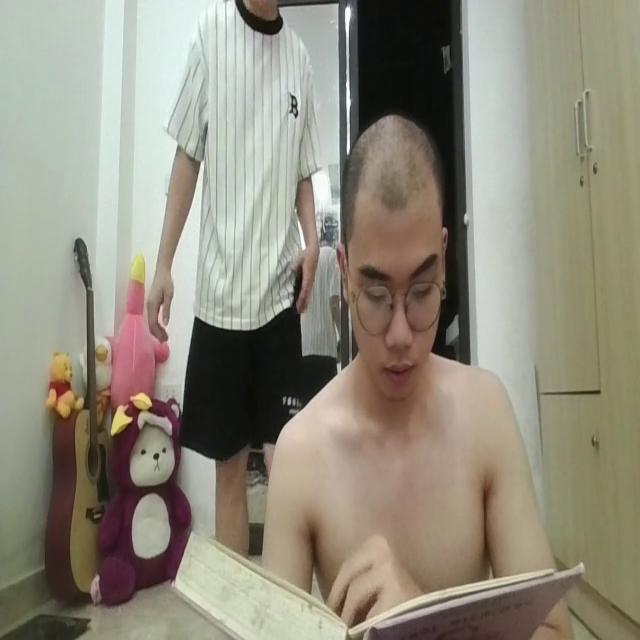book: (148, 513, 586, 640)
extra_person: (138, 2, 327, 576)
student: (268, 122, 560, 640)
